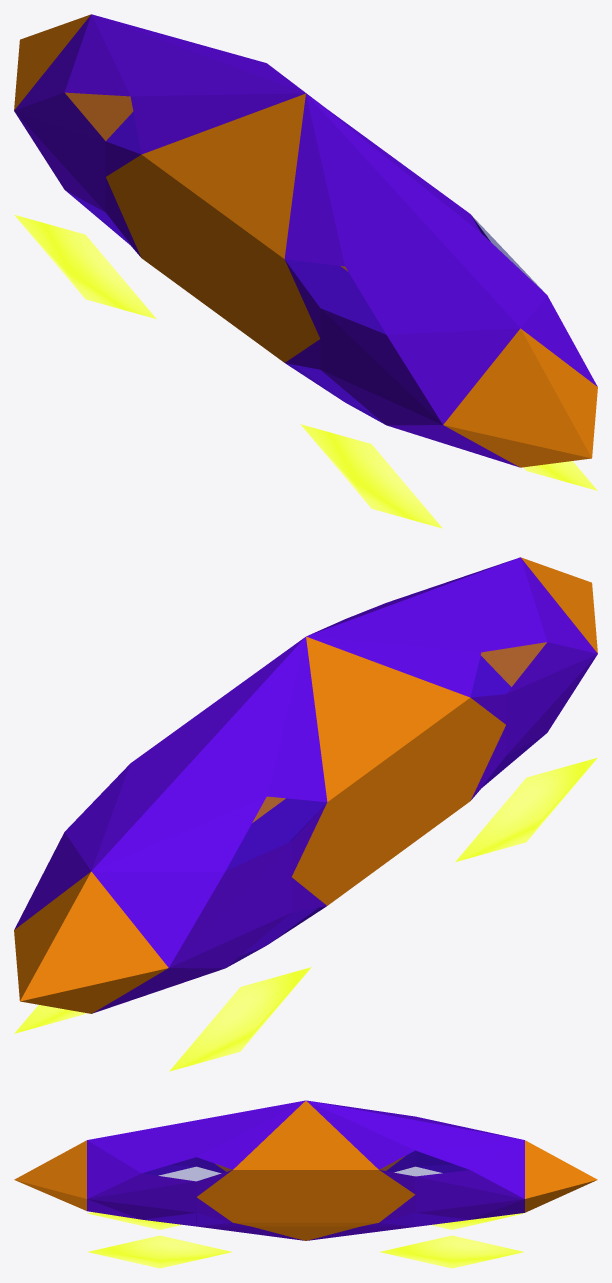
Rendered from passengercar2.glb.
The picture shows the model from 3 angles, top to bottom: view 1: azimuth 30°, elevation 25°; view 2: azimuth 150°, elevation 25°; view 3: azimuth 270°, elevation 25°; orthographic projection. The views are drawn at different scales.
Parts seen in each view (by area): view 1: train.M1, levi.1; view 2: train.M1, levi.1; view 3: train.M1, levi.1.
Boxes of the visible parts, left/top/right/bottom form: train.M1: left=14, top=14, right=597, bottom=467; levi.1: left=14, top=215, right=597, bottom=528; train.M1: left=14, top=557, right=597, bottom=1013; levi.1: left=14, top=758, right=597, bottom=1071; train.M1: left=14, top=1100, right=597, bottom=1240; levi.1: left=87, top=1212, right=524, bottom=1268.
Size of the model in its own units: 3.1 by 4.5 by 16.
